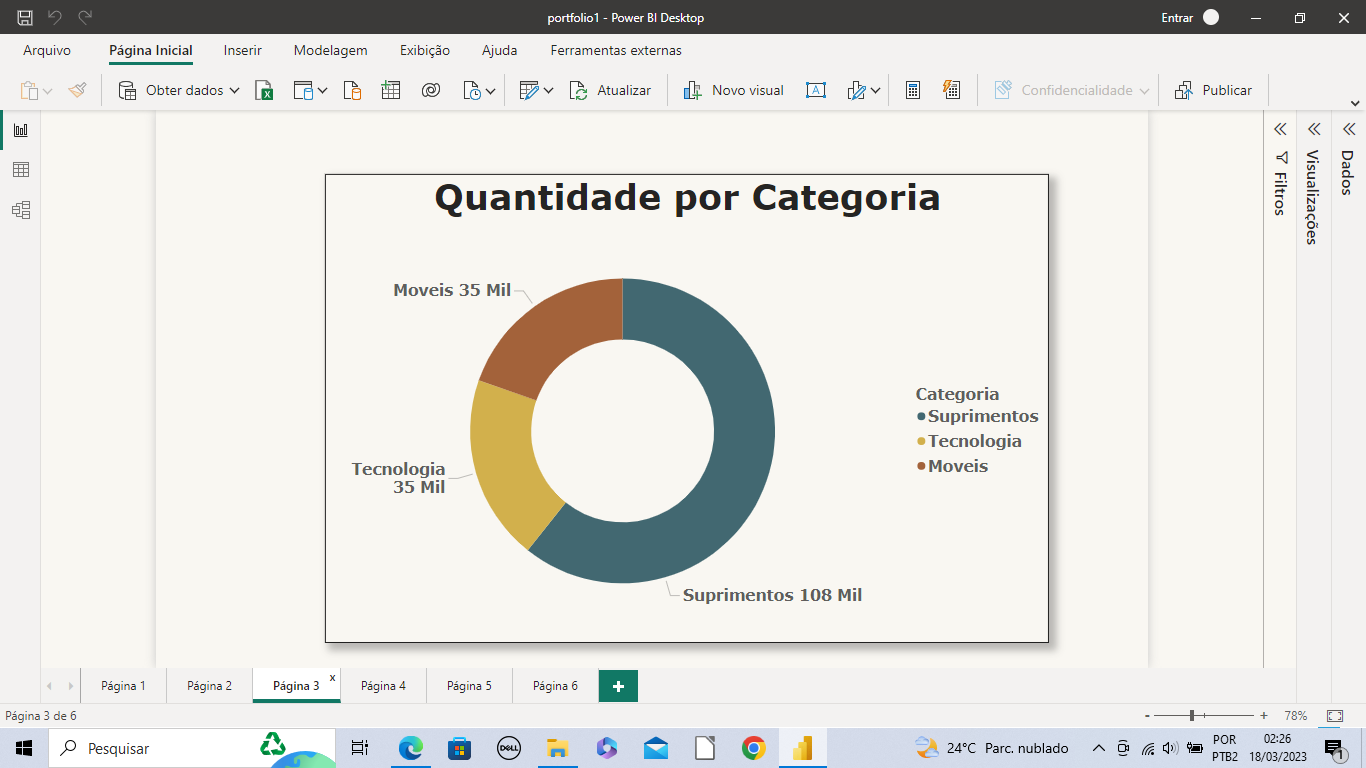

What the dashboard file says about the page in this screenshot:
{"tool":"powerbi","page":{"name":"Página 3","canvas":[1280,720],"ordinal":2},"visuals":[{"type":"donutChart","fields":{"Y":["Sum(dataset.Quantidade)"],"Category":["dataset.Categoria"]},"box":[218.3,82.2,934,605.2],"z":0}]}

Visuals, with their boxes on the page's 1280x720 design canvas (x1, y1, x2, y2). These are canvas units, not pixel positions in the 1366x768 screenshot, which may show the page scaled, cropped or inside an application window:
donutChart - Sum(dataset.Quantidade) x dataset.Categoria: bbox=(218, 82, 1152, 687)
